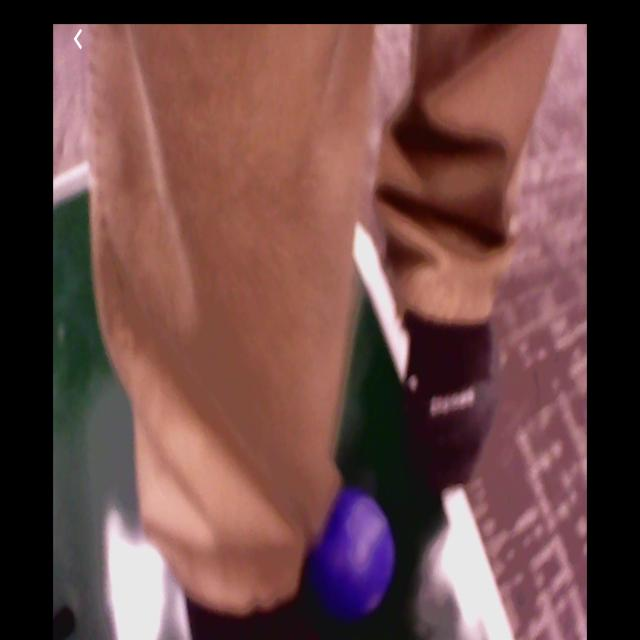ball: (308, 488, 397, 619)
